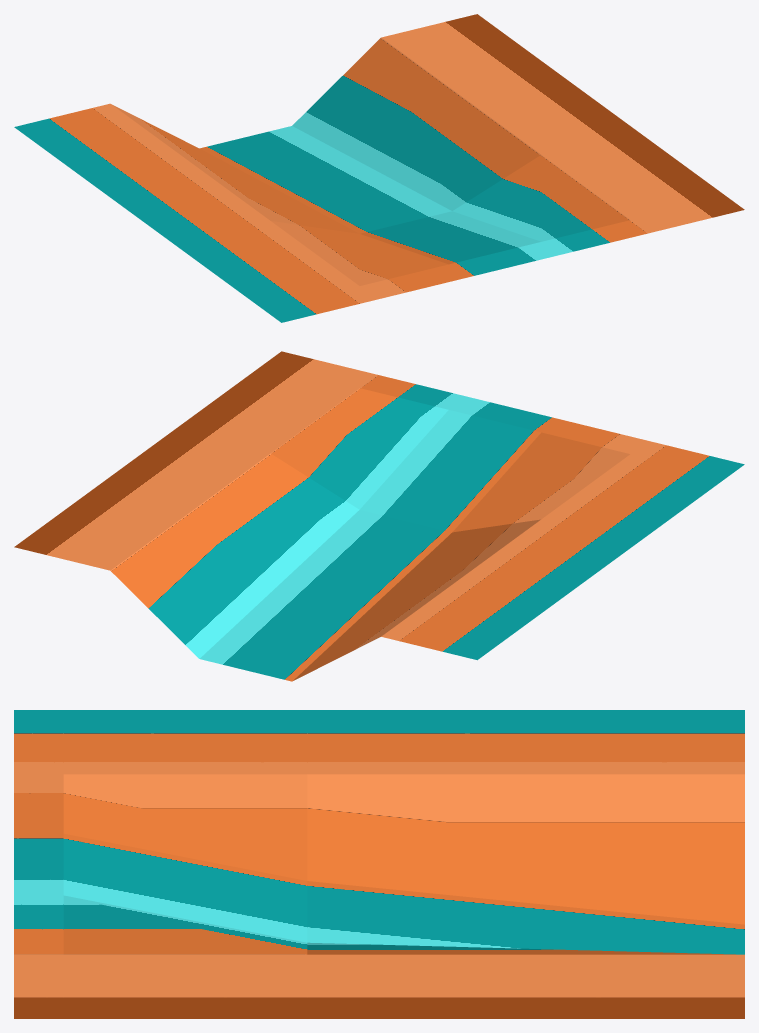
File: Trench.glb
The picture shows the model from 3 angles, top to bottom: view 1: azimuth 30°, elevation 25°; view 2: azimuth 150°, elevation 25°; view 3: azimuth 270°, elevation 25°; orthographic projection. The views are drawn at different scales.
Visible parts, largest first — view 1: Plane; view 2: Plane; view 3: Plane.
Part boxes in pixels (x1=…): Plane: x1=14, y1=14, x2=744, y2=322; Plane: x1=14, y1=351, x2=744, y2=681; Plane: x1=14, y1=710, x2=744, y2=1018.
Size of the model in its own units: 22 by 3.02 by 22.
1 material, 1 textured.
